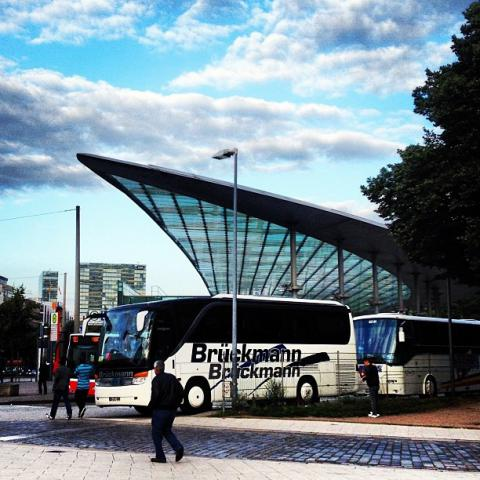bus: (80, 294, 358, 416), (357, 312, 479, 399), (67, 331, 99, 368)
